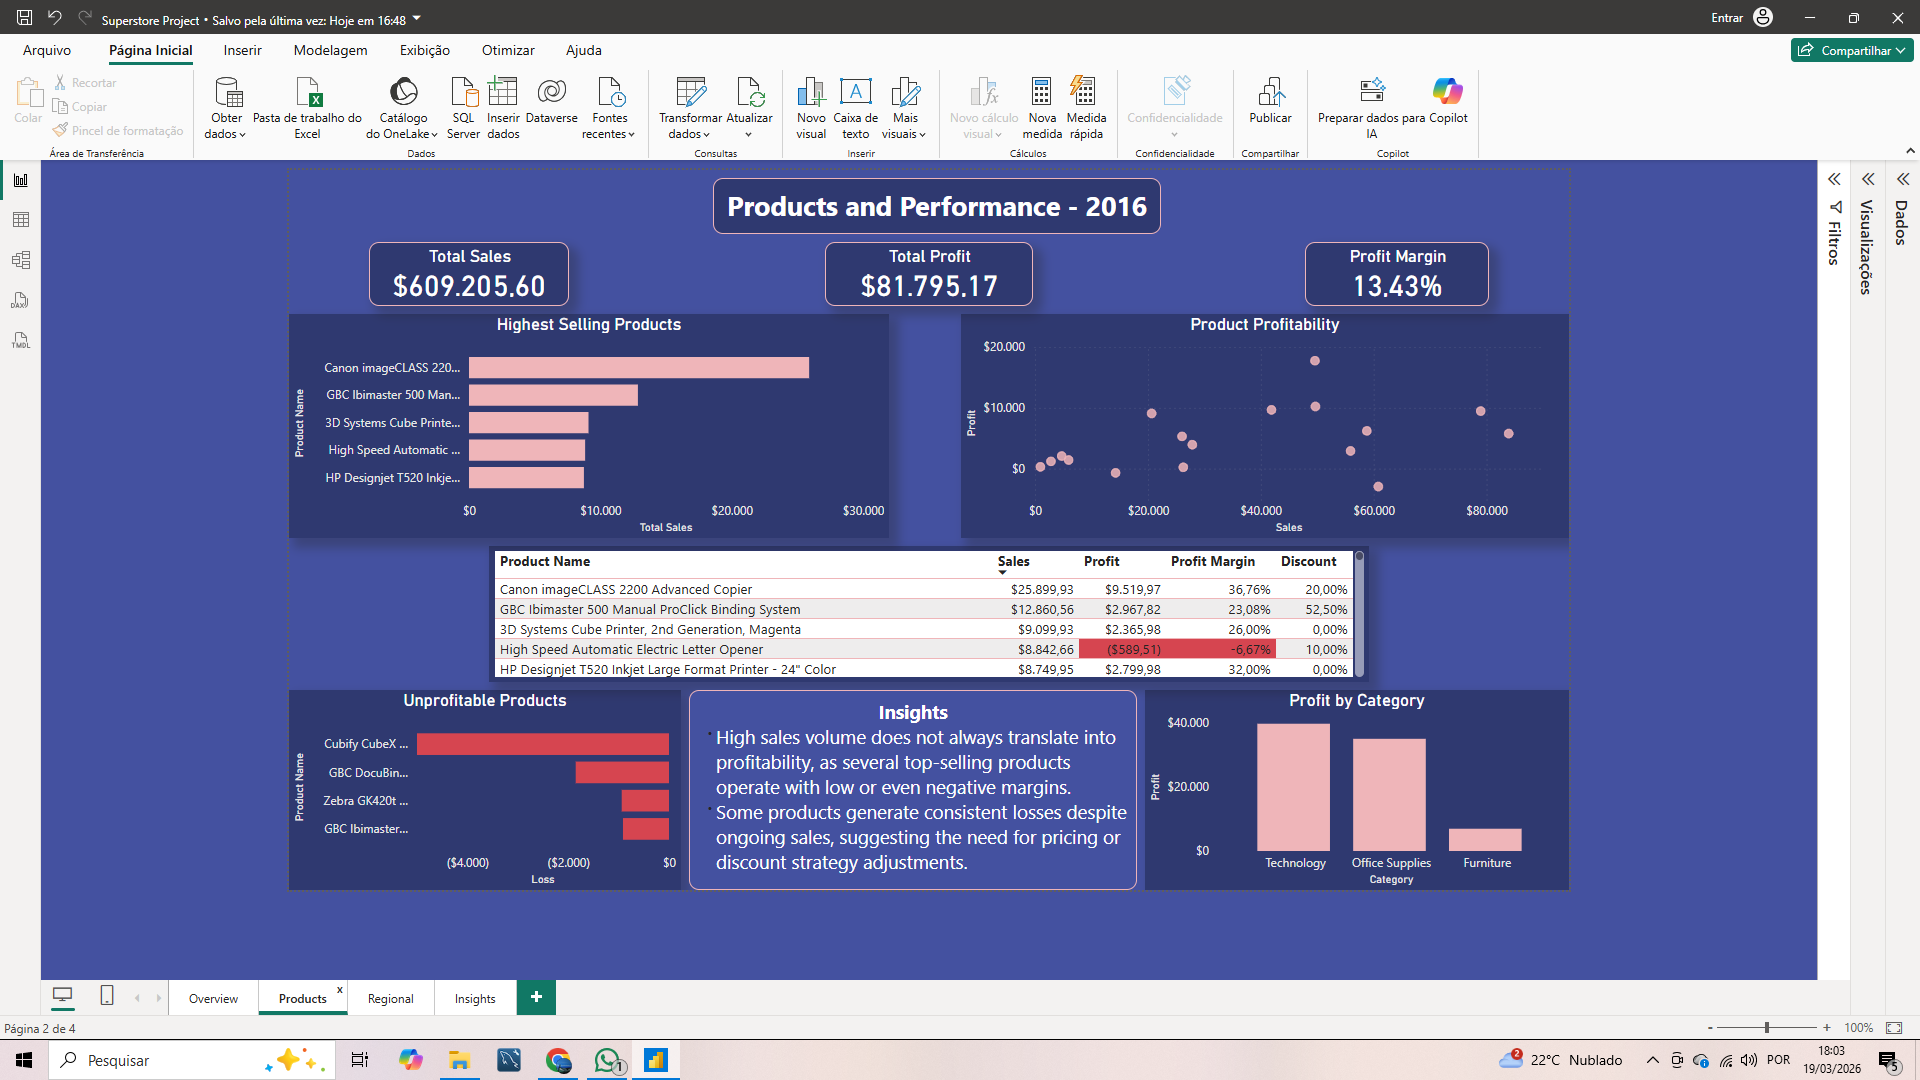

The page's visual inventory and layout, read from the dashboard file:
{"tool":"powerbi","page":{"name":"Products","canvas":[1280,720],"ordinal":1},"visuals":[{"type":"clusteredBarChart","title":"Highest Selling Products","fields":{"Y":["Sample - Superstore.Total Sales"],"Category":["Sample - Superstore.Product Name"]},"box":[0,144,600,224],"z":0},{"type":"card","title":"Total Sales","fields":{"Values":["Sample - Superstore.Total Sales"]},"box":[80,71.6,200,64],"z":1000},{"type":"card","title":"Total Profit","fields":{"Values":["Sample - Superstore.Total Profit"]},"box":[536,71.6,208,64],"z":2000},{"type":"card","title":"Profit Margin","fields":{"Values":["Sample - Superstore.Profit Margin"]},"box":[1016,71.6,184,64],"z":3000},{"type":"textbox","box":[424,8,448,56],"z":4000},{"type":"scatterChart","title":"Product Profitability","fields":{"X":["Sum(Sample - Superstore.Sales)"],"Y":["Sum(Sample - Superstore.Profit)"],"Category":["Sample - Superstore.Sub-Category"]},"box":[672,144,608,224],"z":5000},{"type":"tableEx","fields":{"Values":["Sample - Superstore.Product Name","Sum(Sample - Superstore.Sales)","Sum(Sample - Superstore.Profit)","Sample - Superstore.Profit Margin","Avg(Sample - Superstore.Discount)"]},"box":[200,376,880,136],"z":6000},{"type":"clusteredBarChart","title":"Unprofitable Products","fields":{"Category":["Sample - Superstore.Product Name"],"Y":["Sum(Sample - Superstore.Profit)"]},"box":[0,520,392,200],"z":7000},{"type":"clusteredColumnChart","title":"Profit by Category","fields":{"Category":["Sample - Superstore.Category"],"Y":["Sum(Sample - Superstore.Profit)"]},"box":[856,520,424,200],"z":8000},{"type":"textbox","box":[400,520,448,200],"z":8001}]}

Visuals, with their boxes on the page's 1280x720 design canvas (x1, y1, x2, y2). These are canvas units, not pixel positions in the 1920x1080 screenshot, which may show the page scaled, cropped or inside an application window:
"Highest Selling Products" clusteredBarChart: 0, 144, 600, 368
"Total Sales" card: 80, 72, 280, 136
"Total Profit" card: 536, 72, 744, 136
"Profit Margin" card: 1016, 72, 1200, 136
textbox: 424, 8, 872, 64
"Product Profitability" scatterChart: 672, 144, 1280, 368
tableEx - Sample - Superstore.Product Name x Sum(Sample - Superstore.Sales): 200, 376, 1080, 512
"Unprofitable Products" clusteredBarChart: 0, 520, 392, 720
"Profit by Category" clusteredColumnChart: 856, 520, 1280, 720
textbox: 400, 520, 848, 720
